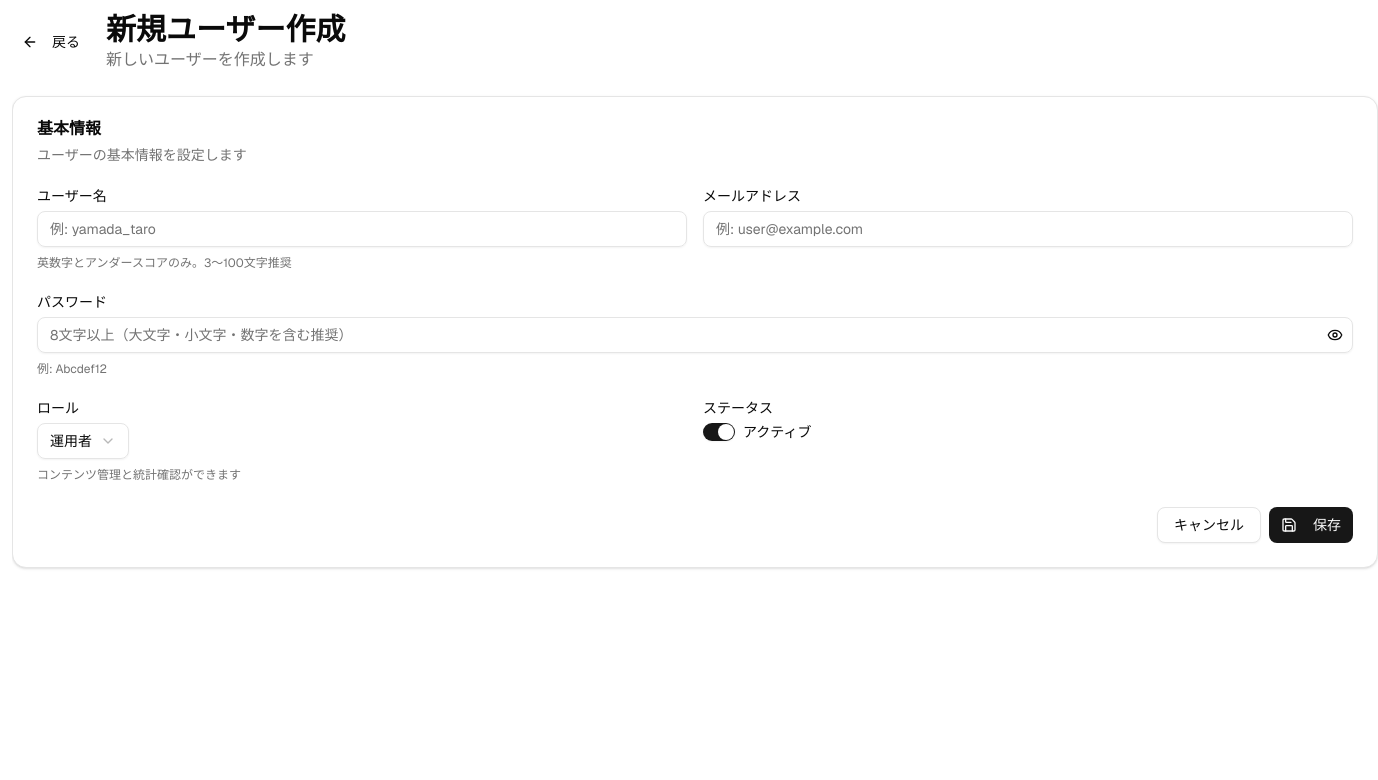
Test: UserForm › 作成モード › バリデーションエラー - パスワードが短すぎる
 フォームに入力
Type "test@example.com" into the field labelled "メールアドレス" at (1028, 229), box [703,211,1353,247]
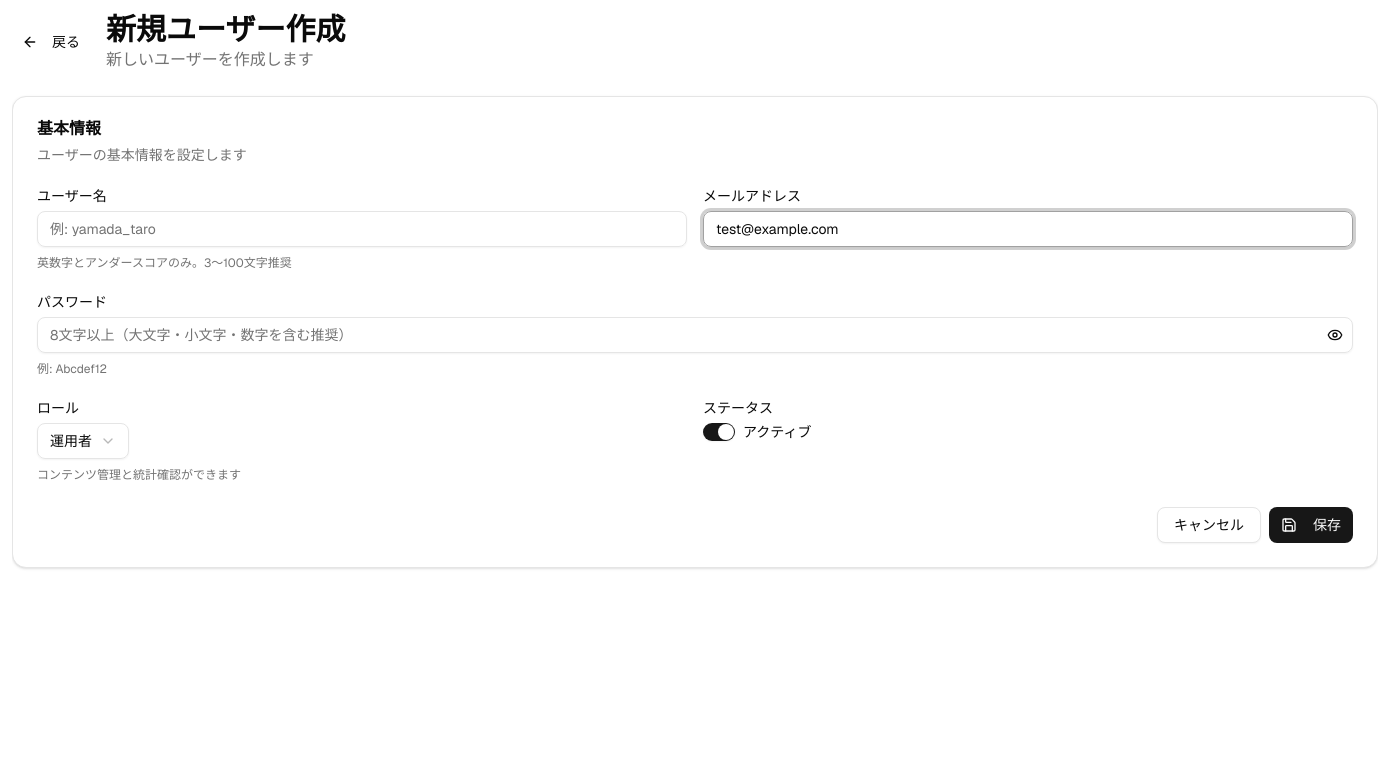
Type "testuser" into the field labelled "ユーザー名" at (362, 229), box [37,211,687,247]
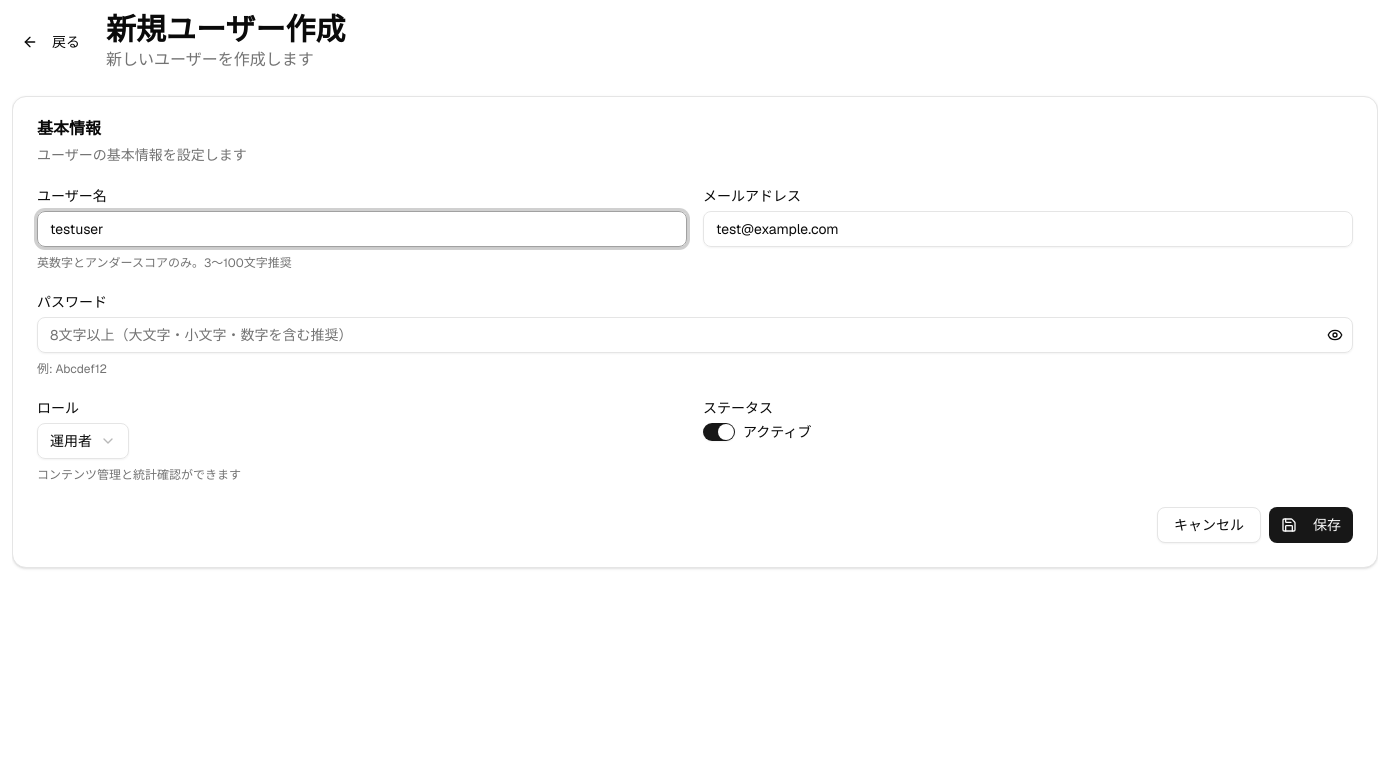
パスワードに7文字を入力
Type "Test123" into the password field labelled "パスワード" at (695, 335), box [37,317,1353,353]
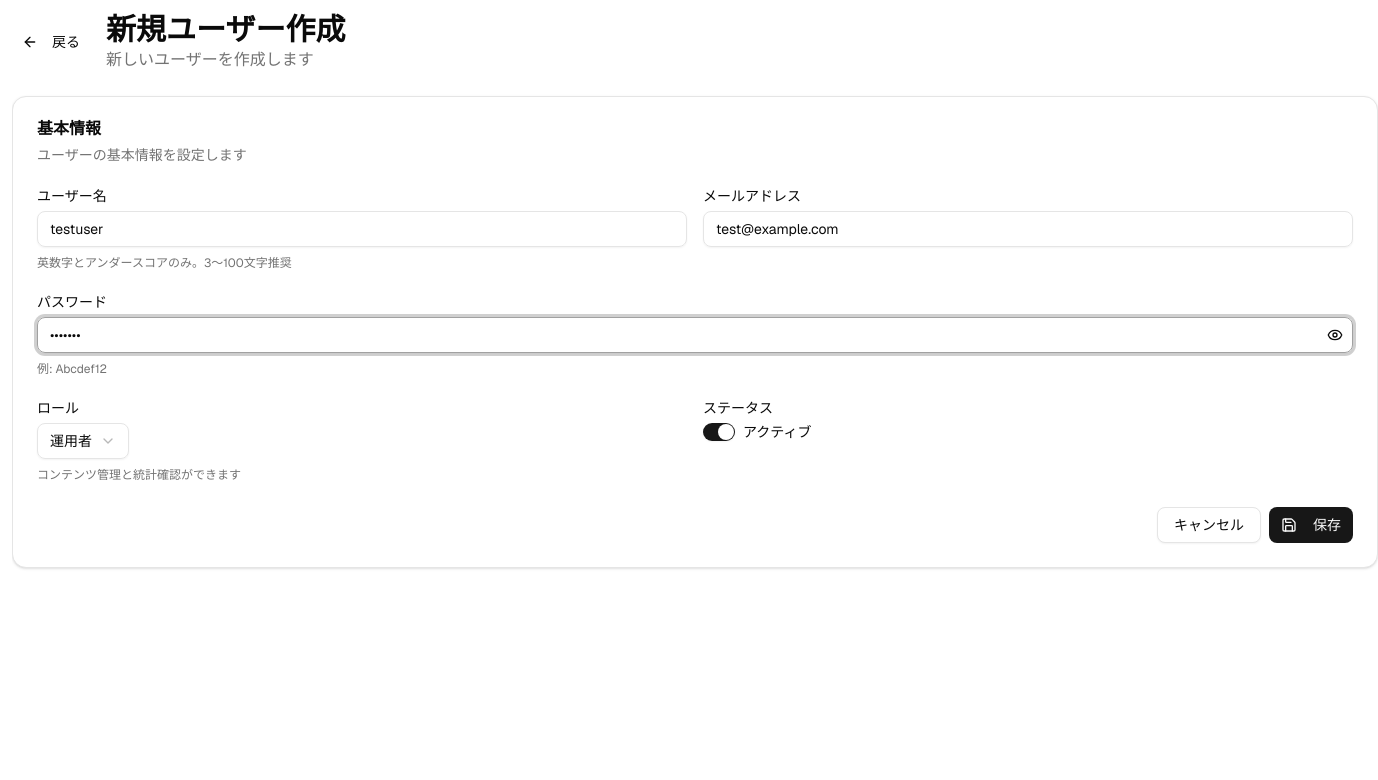
保存ボタンをクリック
Click the button "保存" at (1311, 525), box [1269,507,1353,543]
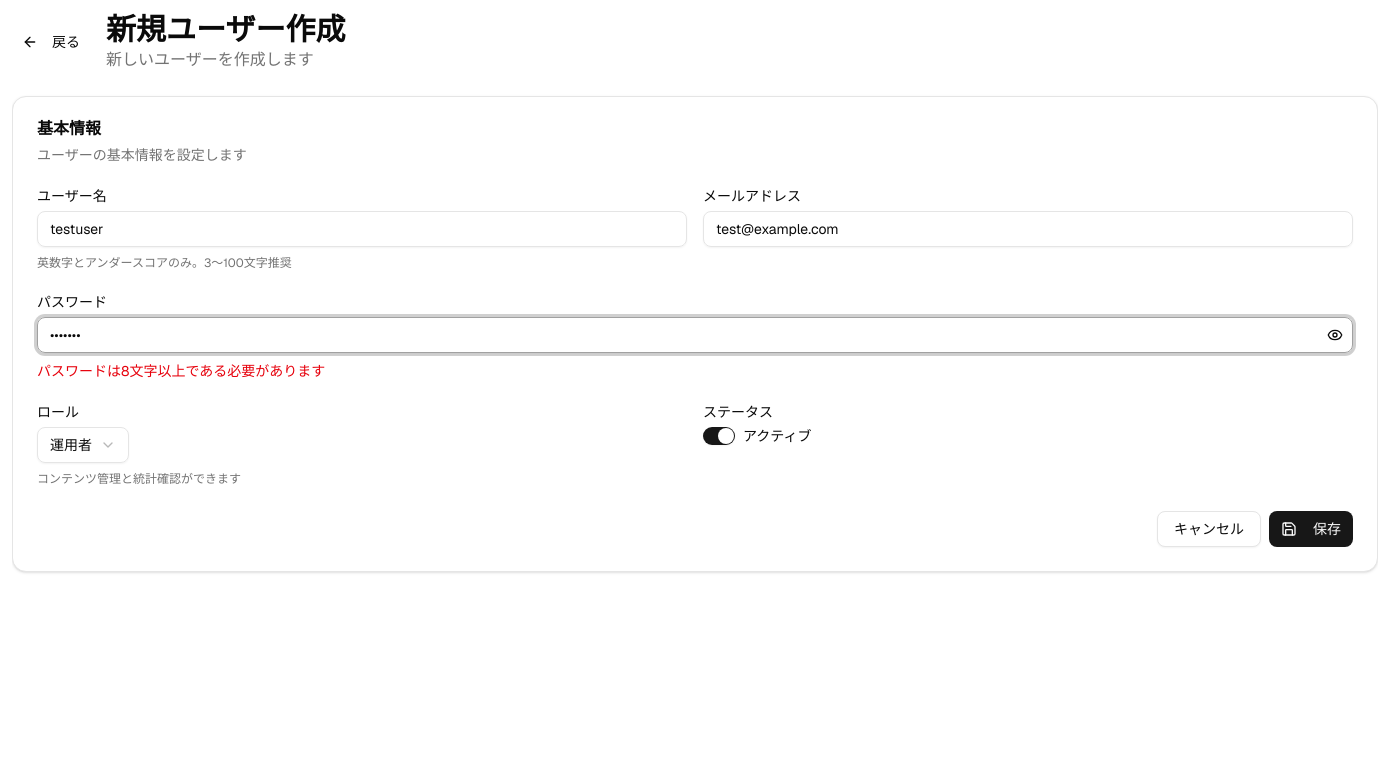
Now the text "パスワードは8文字以上である必要があります" is shown, box [37,362,325,380]
